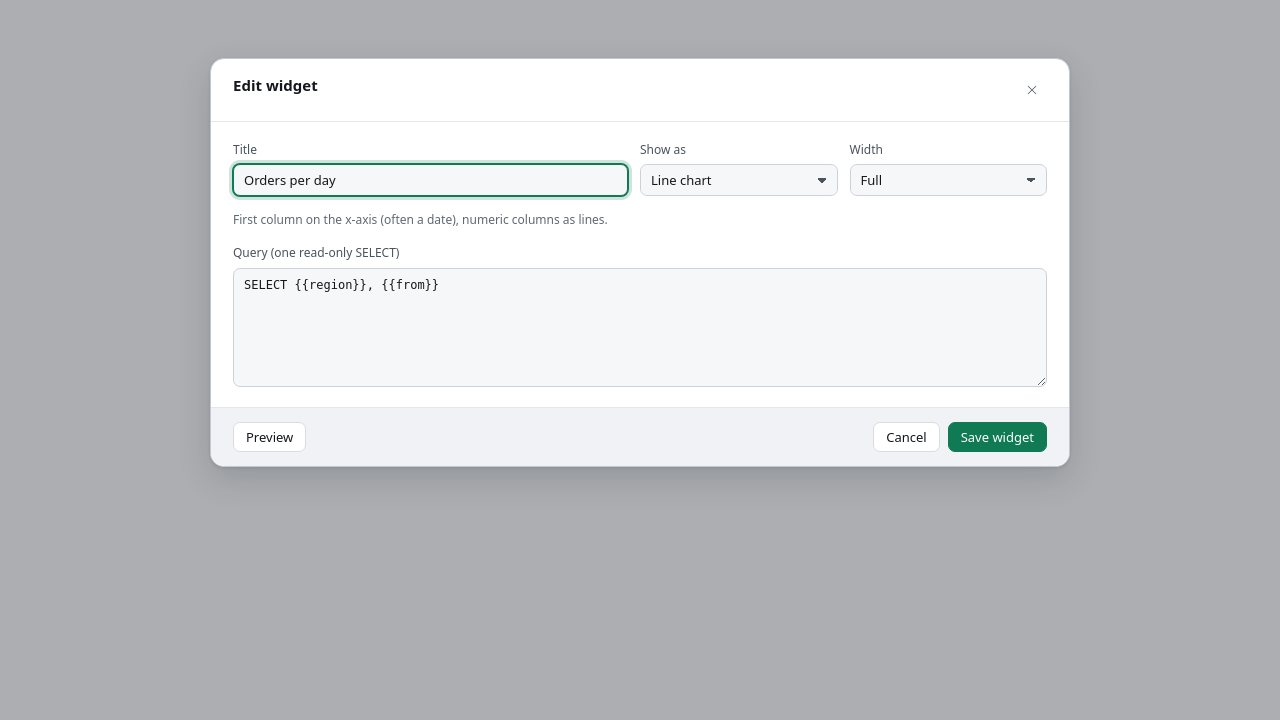
WidgetEditor › leaves out empty parameters even when the query uses them
Click the button "Preview" at [270, 437], box [233,422,306,452]
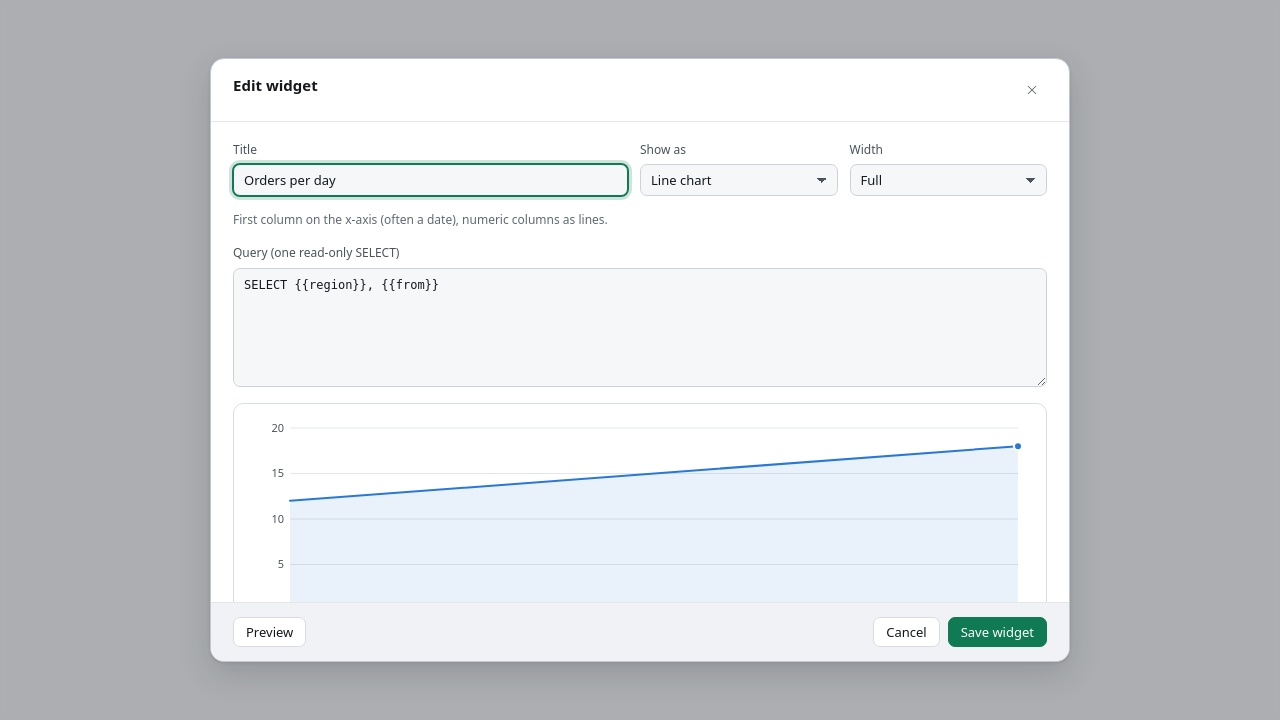
Result: the picture is shown at [246,416,1034,602]
